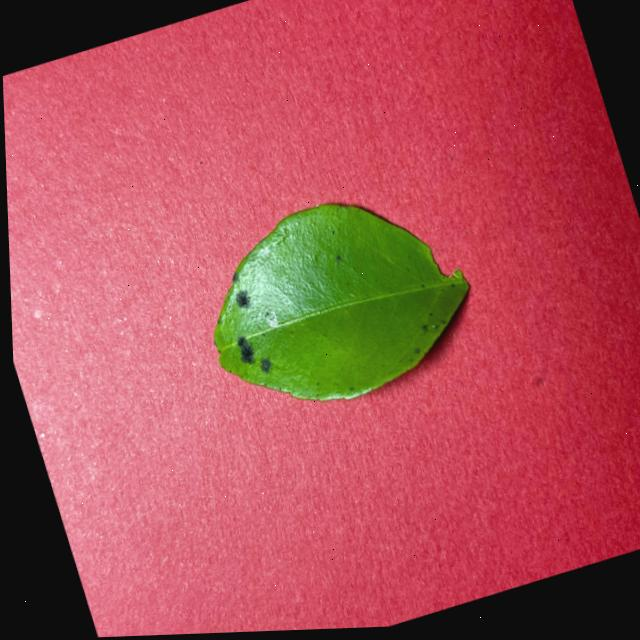sooty_mold: (213, 203, 468, 399)
